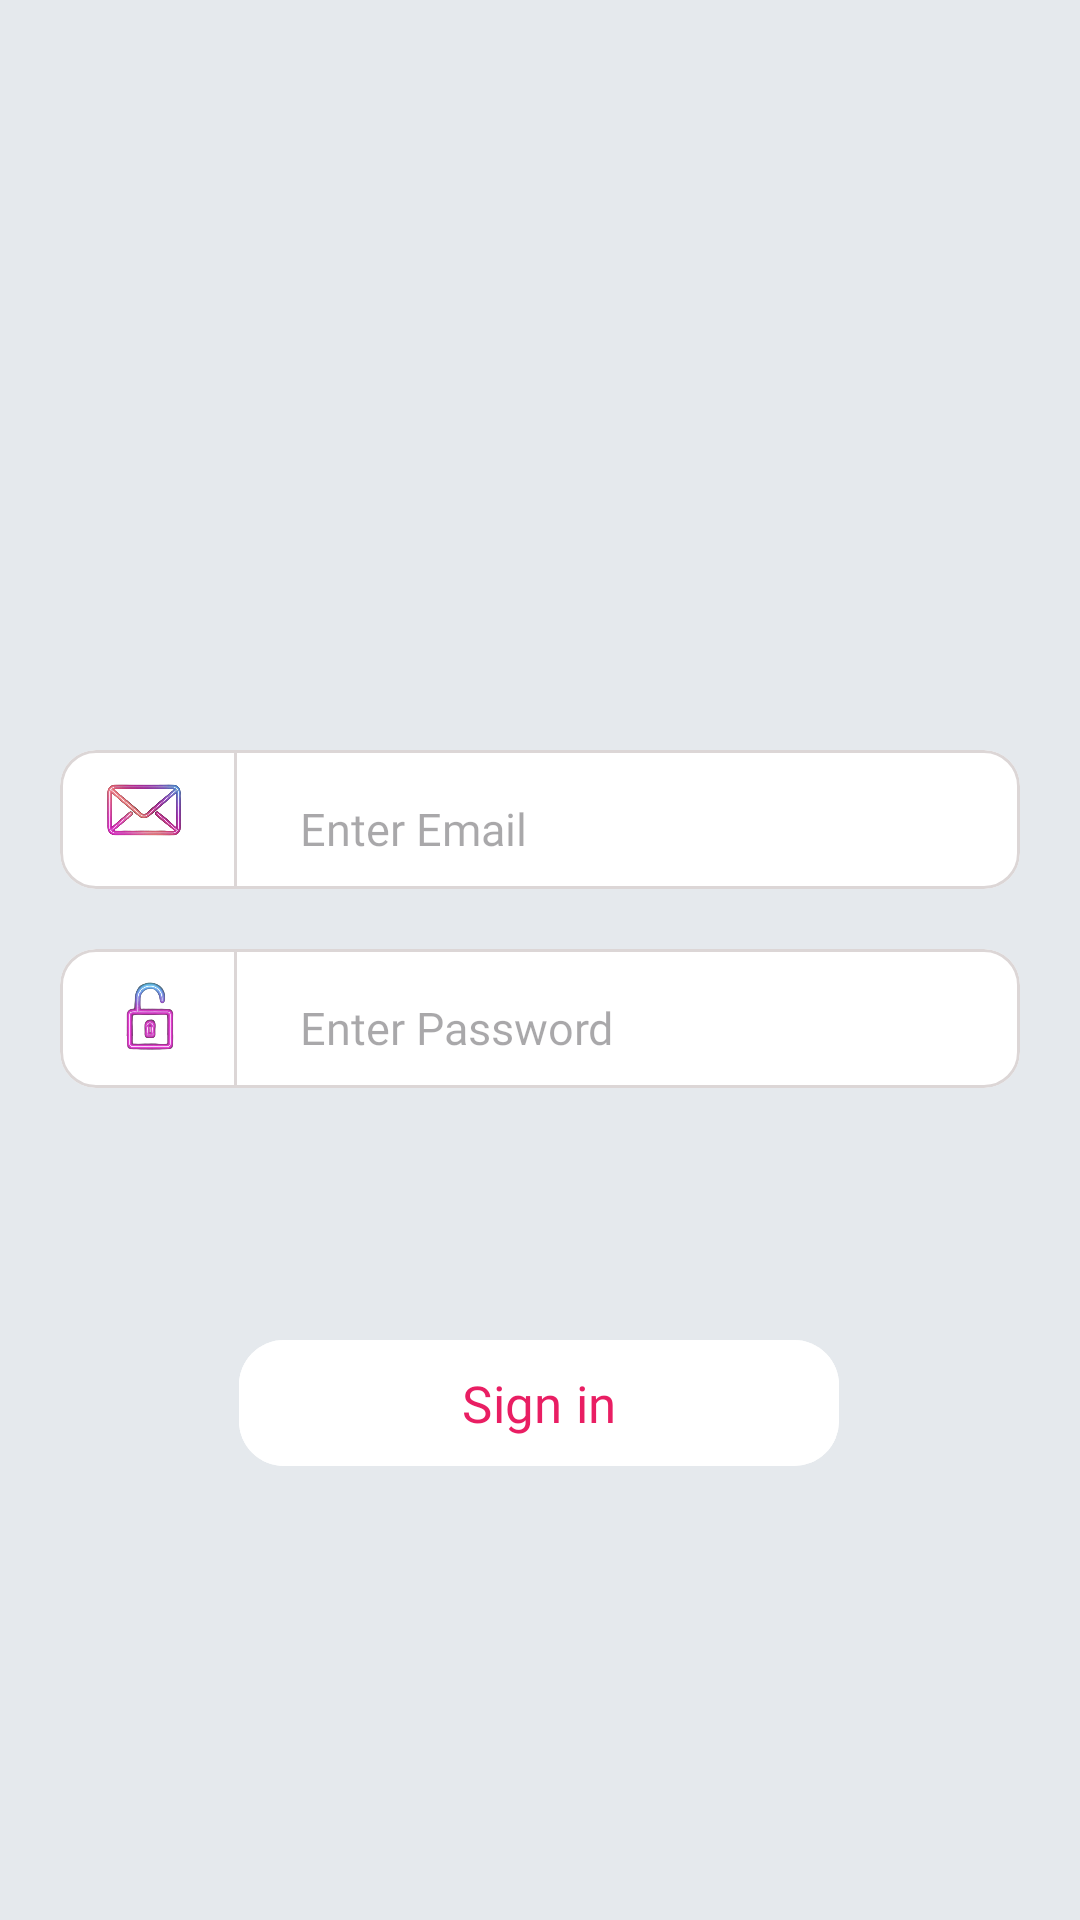

Icon click points for this 1080px×1920px phone screenshot, format (x=x, y=y):
lock: (x=150, y=1016)
